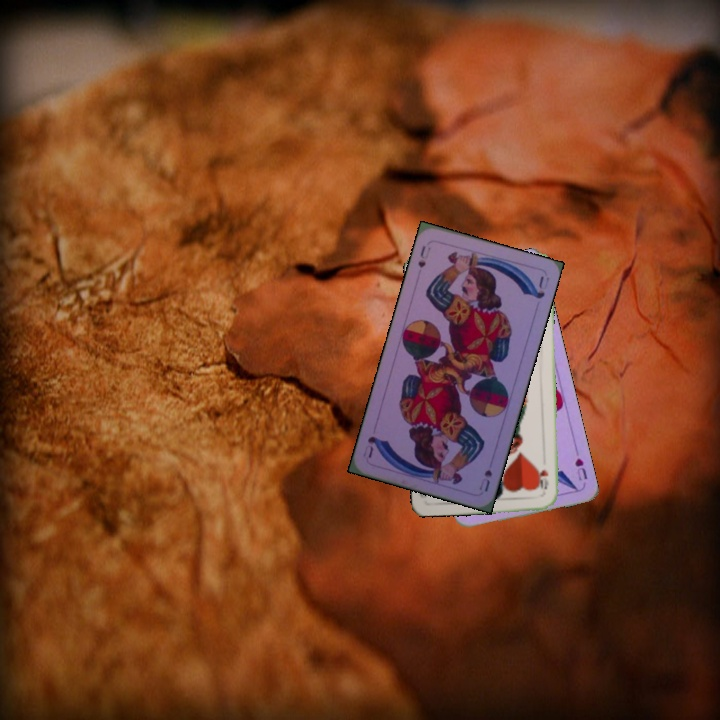HO: (534, 464, 551, 494)
HU: (571, 454, 590, 483)
SU: (475, 465, 495, 494), (414, 242, 433, 270)
